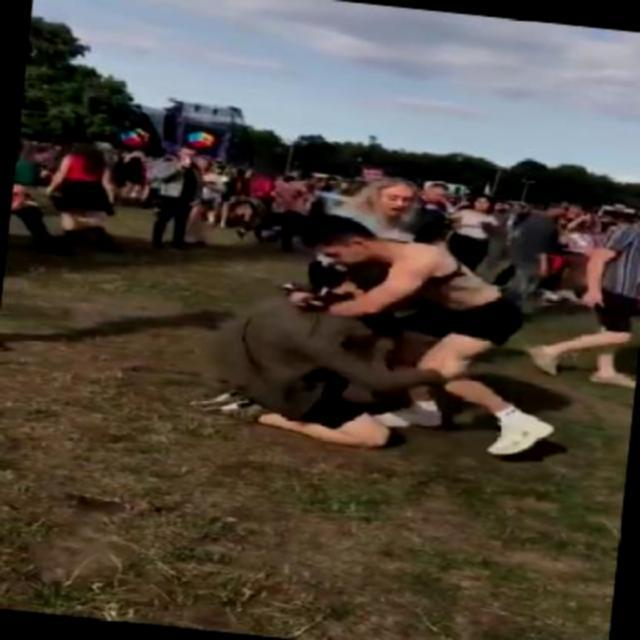fight: (192, 201, 570, 462)
